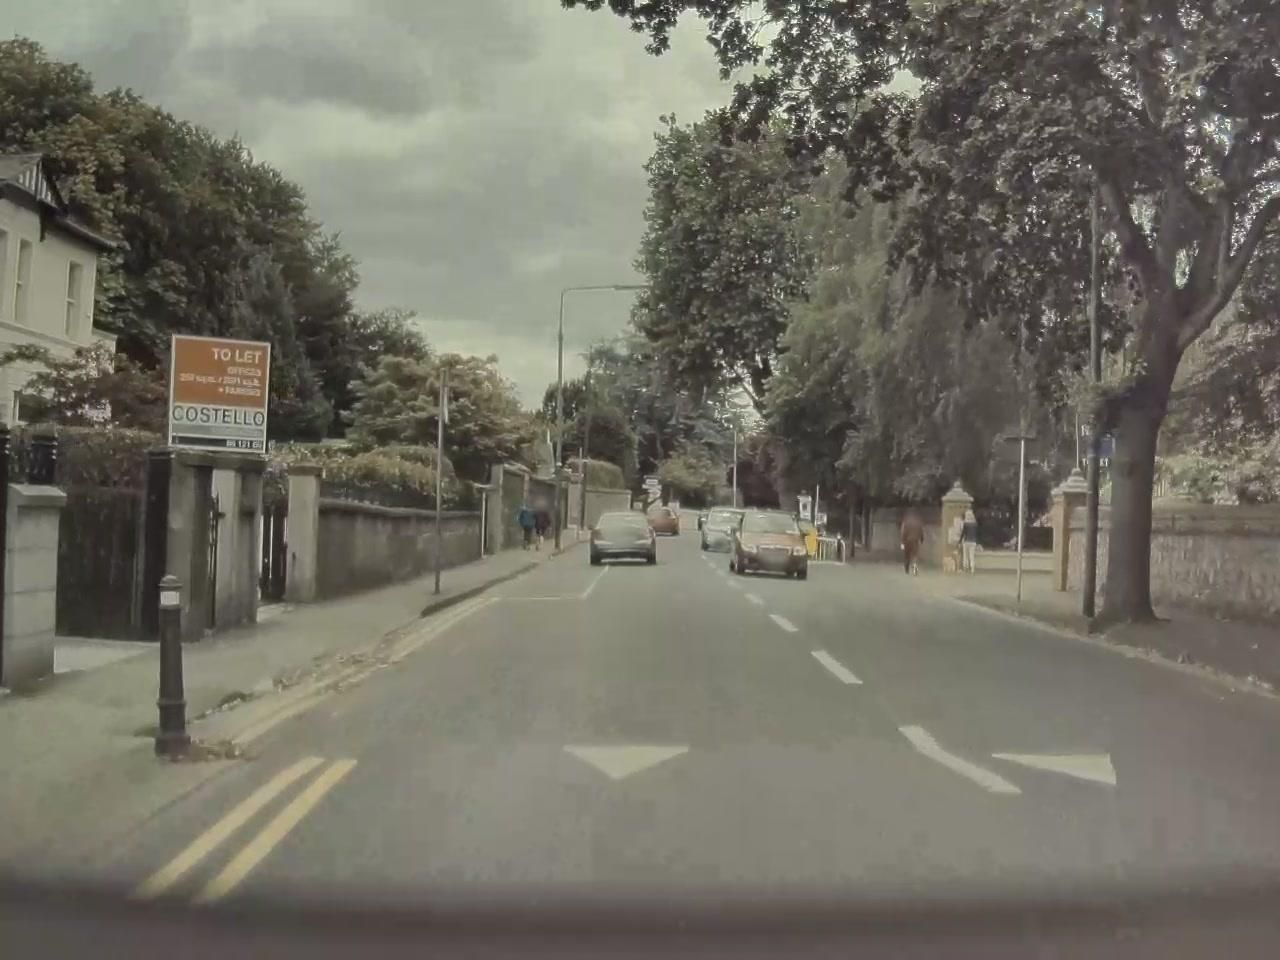property sign: (151, 309, 291, 474)
